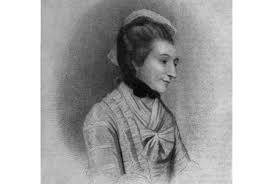middle_eastern_Female: (141, 36, 182, 93)
